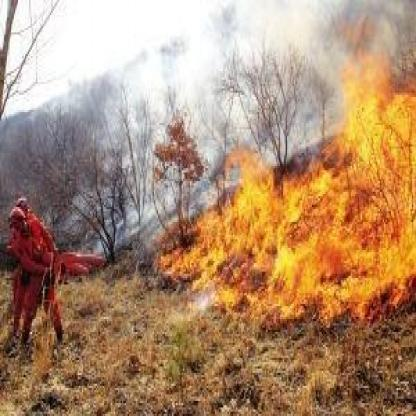fire: (158, 52, 410, 324)
